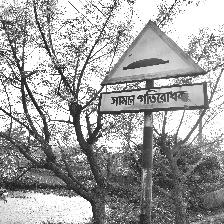Speed-breaker: (99, 18, 209, 115)
